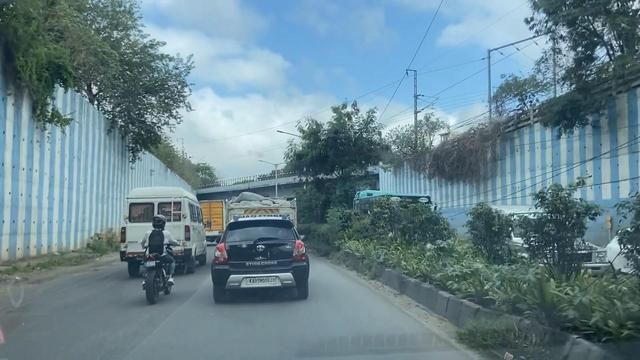HMV: (118, 187, 202, 272)
LMV: (214, 217, 304, 299), (134, 212, 176, 308)
